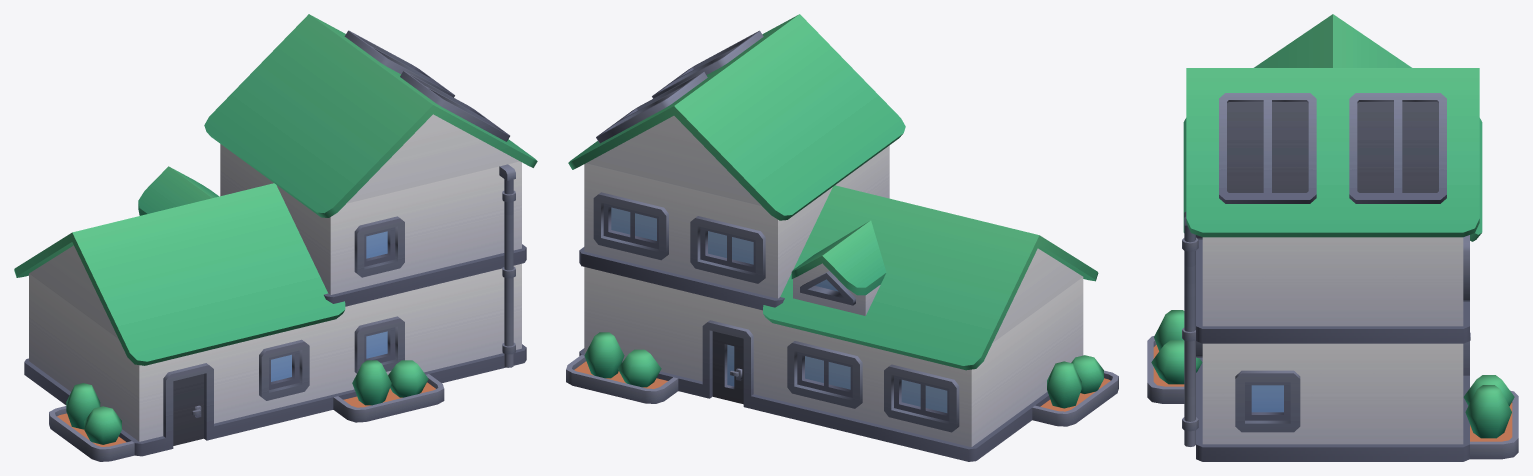
The model's file is suburban-building-type-b.glb.
3 renders of one model, left to right at view 1: azimuth 30°, elevation 25°; view 2: azimuth 150°, elevation 25°; view 3: azimuth 270°, elevation 25°, orthographic. The views are drawn at different scales.
Parts seen in each view (by area): view 1: building-type-b; view 2: building-type-b; view 3: building-type-b.
Part boxes in pixels (x1=…): building-type-b: x1=14, y1=14, x2=537, y2=461; building-type-b: x1=566, y1=14, x2=1118, y2=461; building-type-b: x1=1147, y1=14, x2=1518, y2=461.
Size of the model in its own units: 1.83 by 1.14 by 1.14.
Materials: 1 (1 with a texture image).
